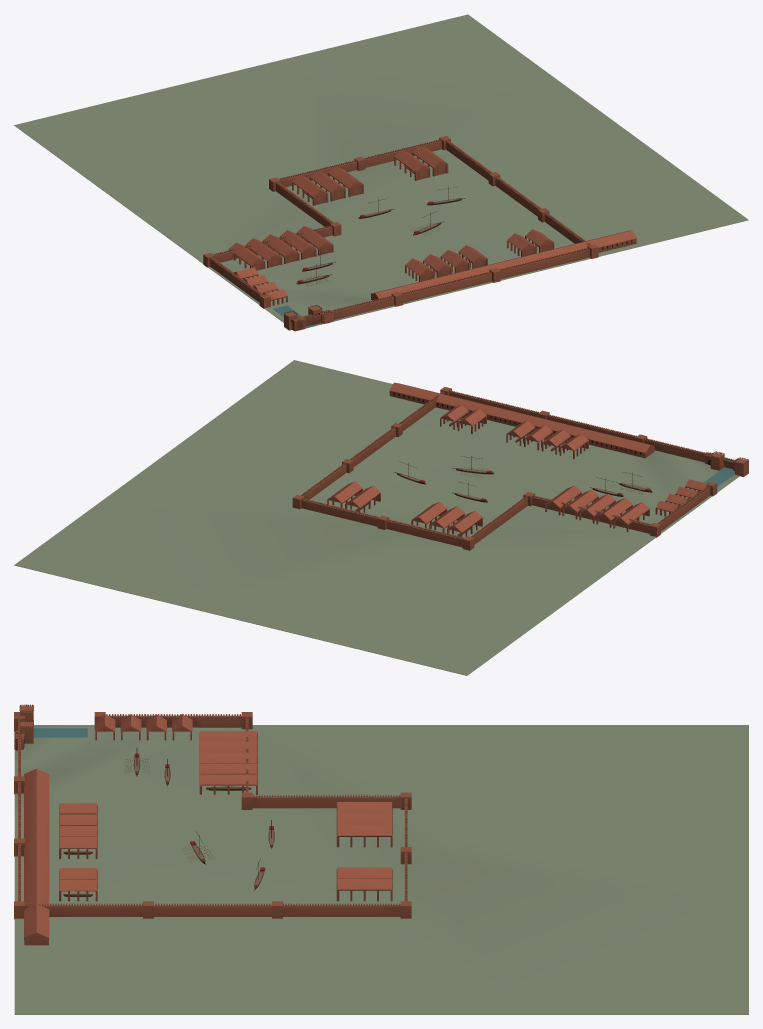
File: arsenale-1400.glb
3 renders of one model, top to bottom at view 1: azimuth 30°, elevation 25°; view 2: azimuth 150°, elevation 25°; view 3: azimuth 270°, elevation 25°, orthographic. The views are drawn at different scales.
Parts seen in each view (by area): view 1: p0_ground, p2_slipways, p1_gates, p3_galleys; view 2: p0_ground, p2_slipways, p1_gates, p3_galleys; view 3: p0_ground, p2_slipways, p1_gates, p3_galleys.
Part boxes in pixels (x1,y1,x2,y2): p0_ground: [14, 14, 748, 328]; p2_slipways: [228, 145, 636, 305]; p1_gates: [203, 136, 598, 331]; p3_galleys: [296, 187, 465, 286]; p0_ground: [14, 360, 739, 675]; p2_slipways: [327, 382, 707, 537]; p1_gates: [292, 387, 748, 550]; p3_galleys: [394, 456, 652, 502]; p0_ground: [14, 725, 748, 1014]; p2_slipways: [24, 714, 392, 945]; p1_gates: [14, 704, 411, 919]; p3_galleys: [124, 748, 274, 890].
Bounding box in the file's own units: 565 × 20.04 × 600.
